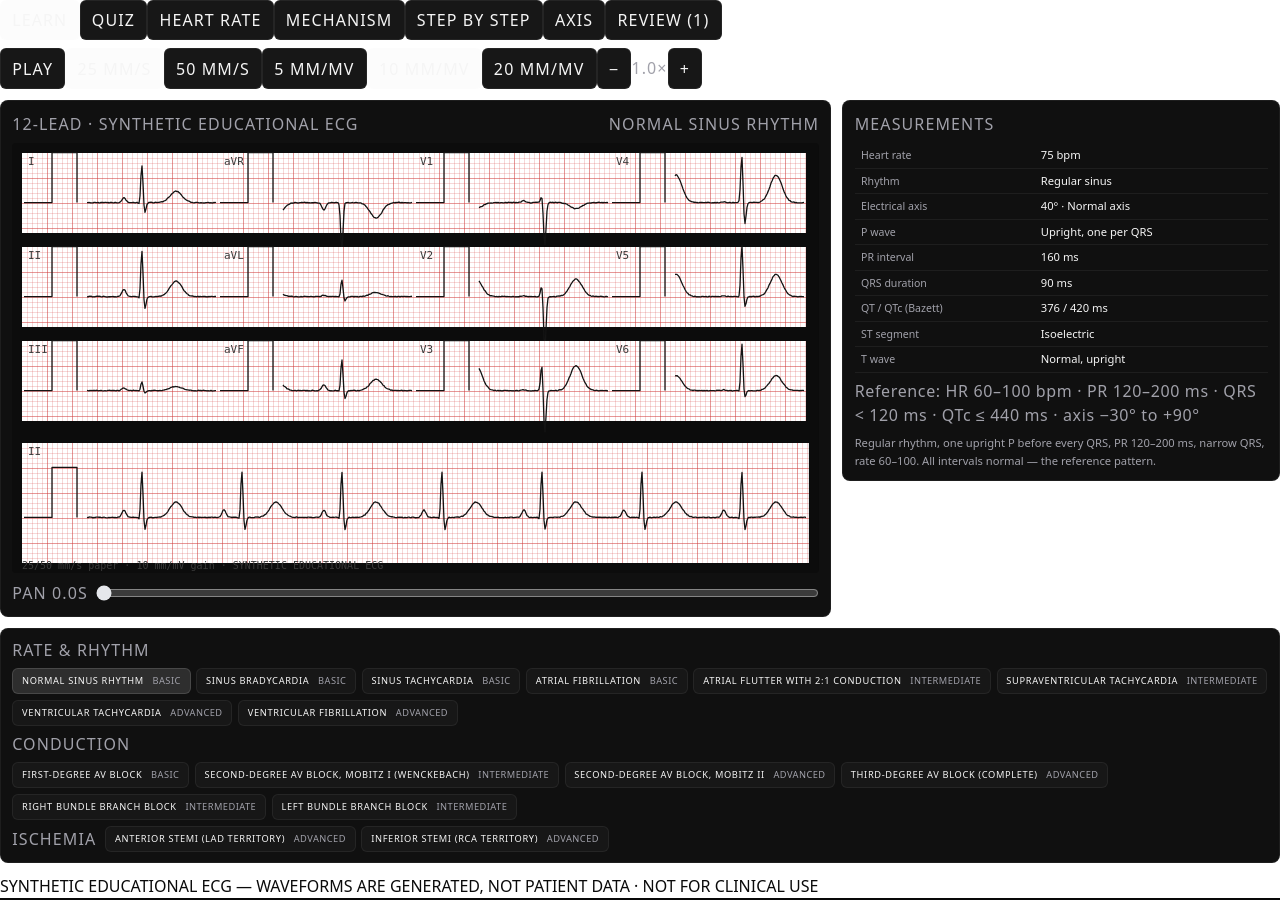
Test: ECG Lab interface › axis lab explores the vector and runs a quiz round
Click the button "AXIS". click: (574, 20)
box: 543,0 -> 605,40
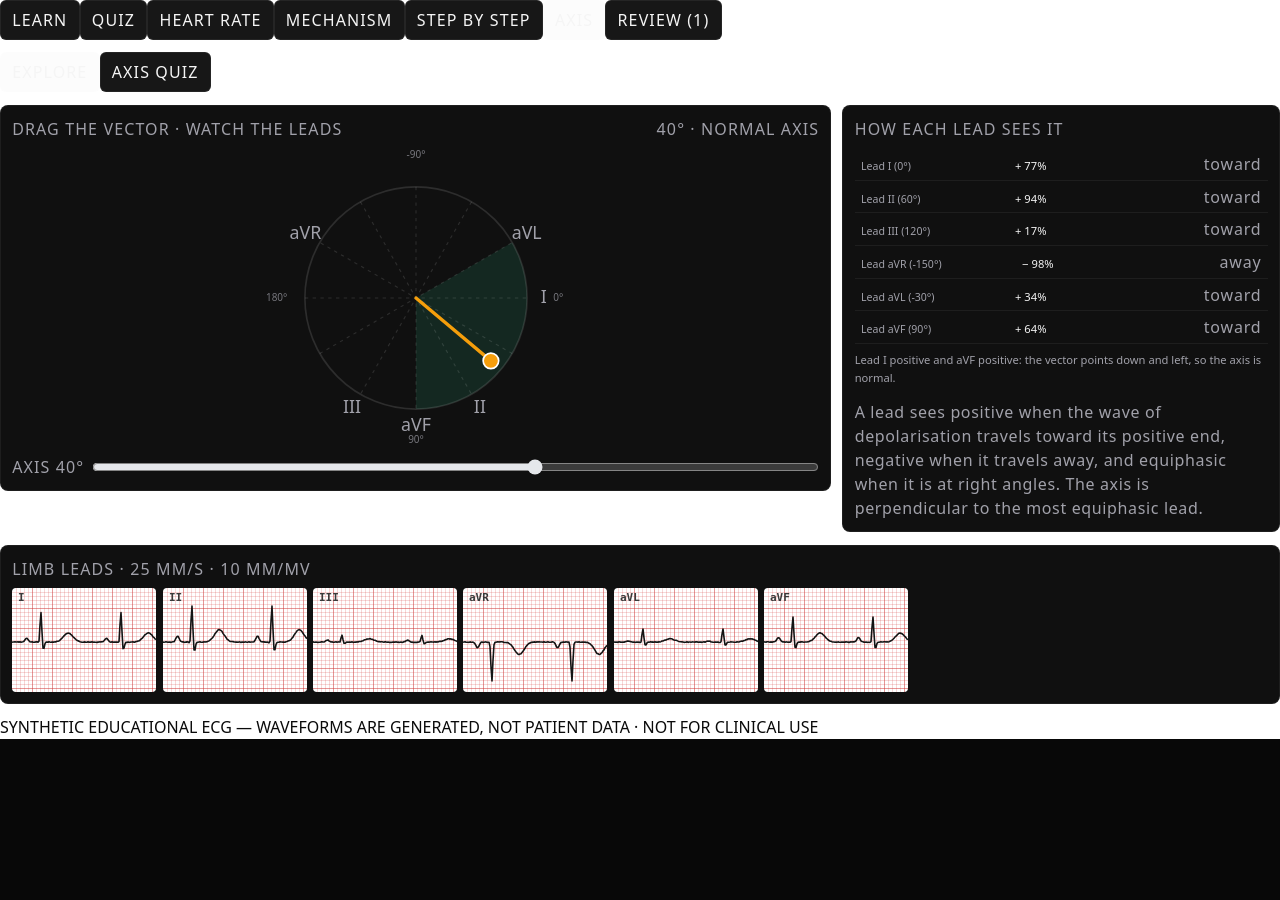
Expected: the picture named "Hexaxial reference system" is shown, 266,148 -> 566,448
Set the slider named "QRS axis in degrees" to "-60". click: (337, 467)
box: 92,459 -> 819,475
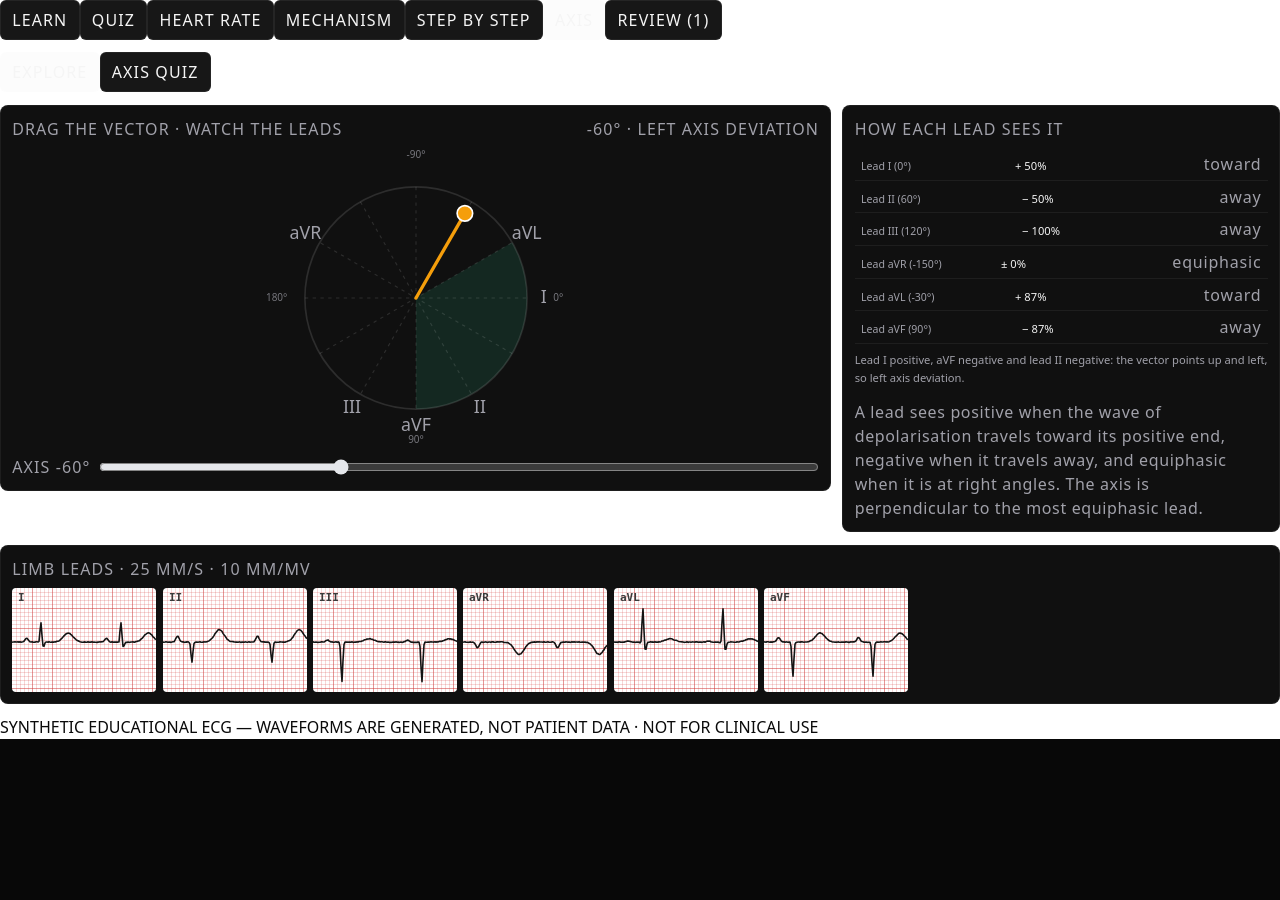
Expected: the text "-60° · LEFT AXIS DEVIATION" is shown, 587,117 -> 819,141
Click the button "AXIS QUIZ". click: (155, 72)
box: 100,52 -> 211,92
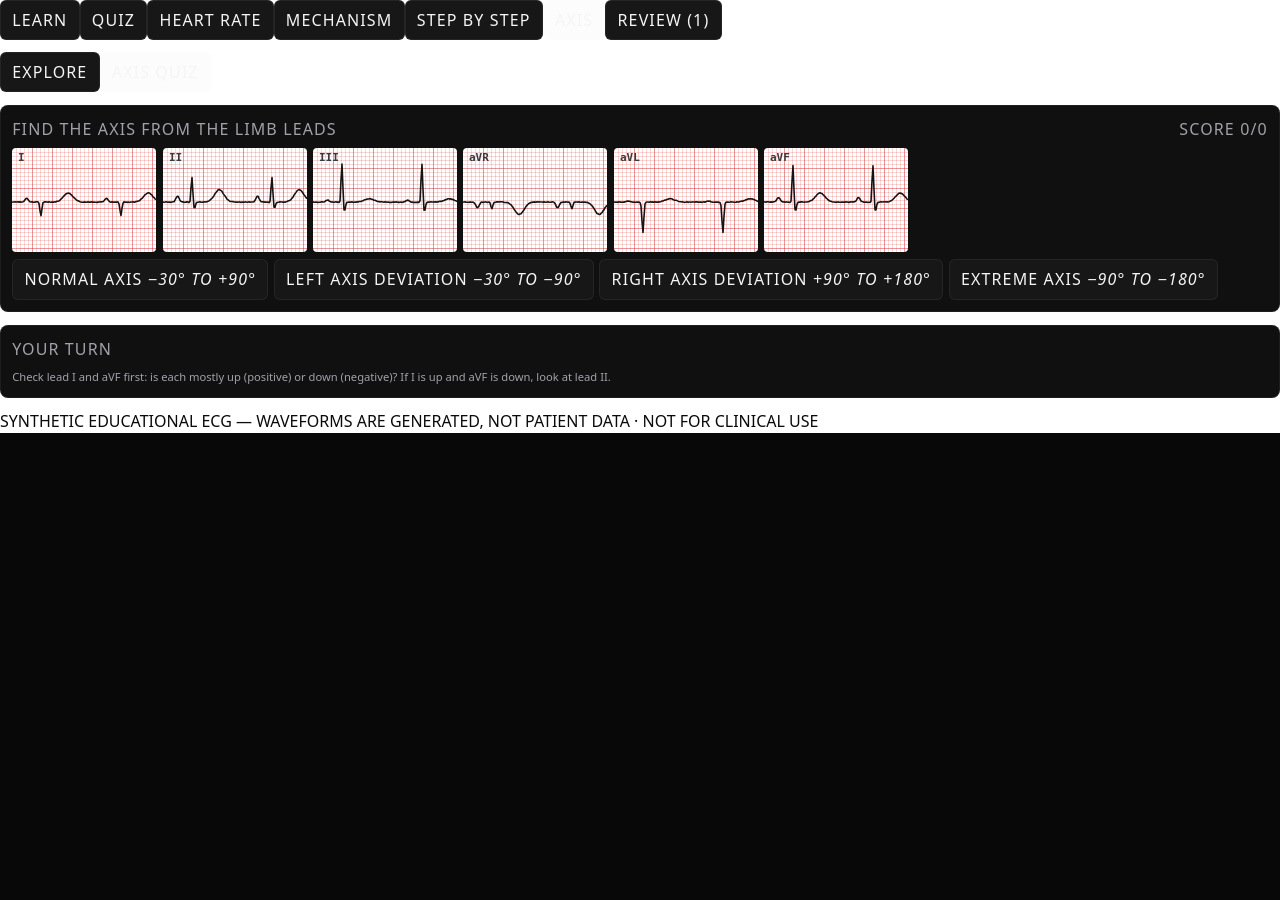
Click the button "Normal axis −30° to +90°". click: (140, 280)
box: 12,259 -> 268,300
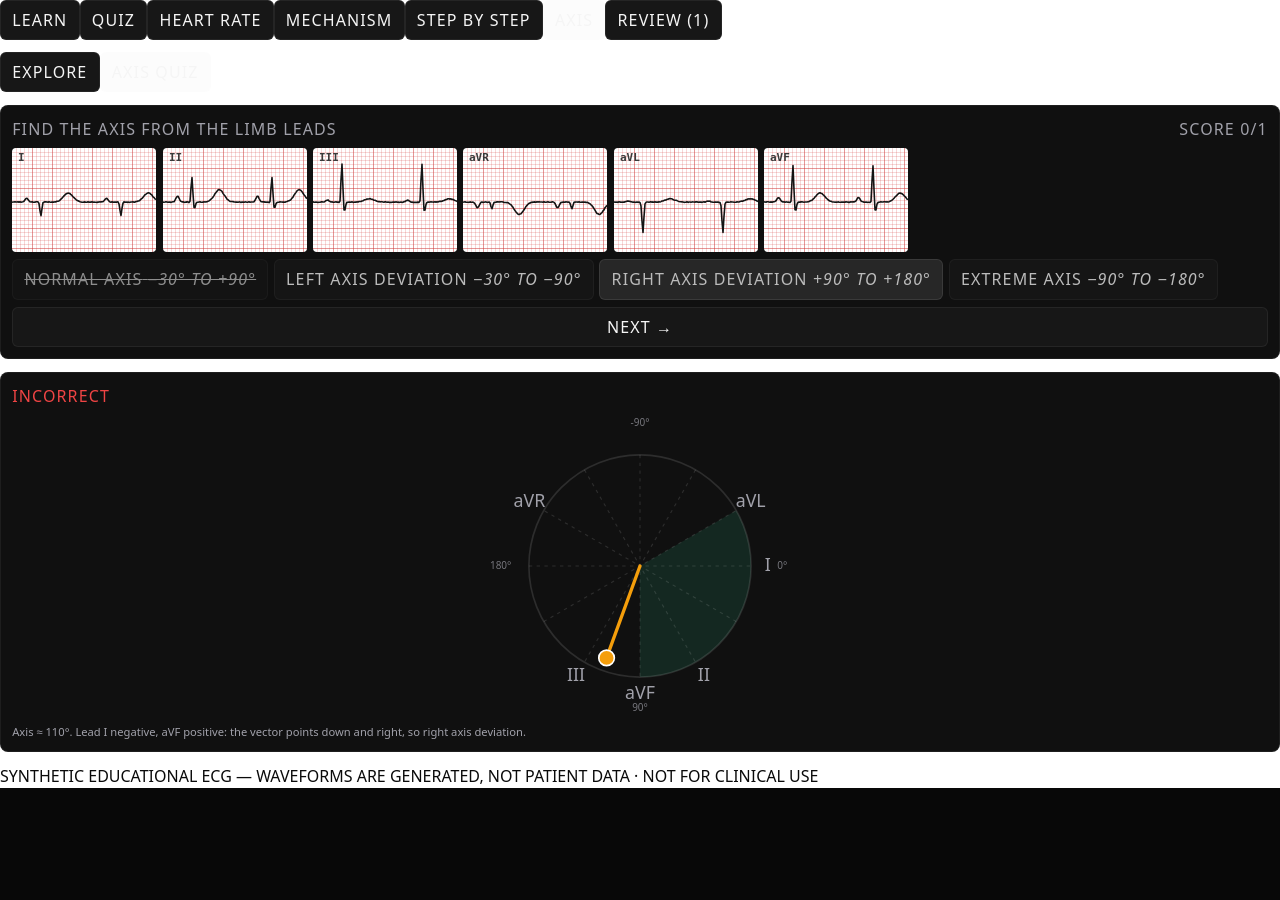
Expected: the text "INCORRECT" is shown, 12,385 -> 110,407
Expected: the text "Axis ≈" is shown, 12,724 -> 46,739
